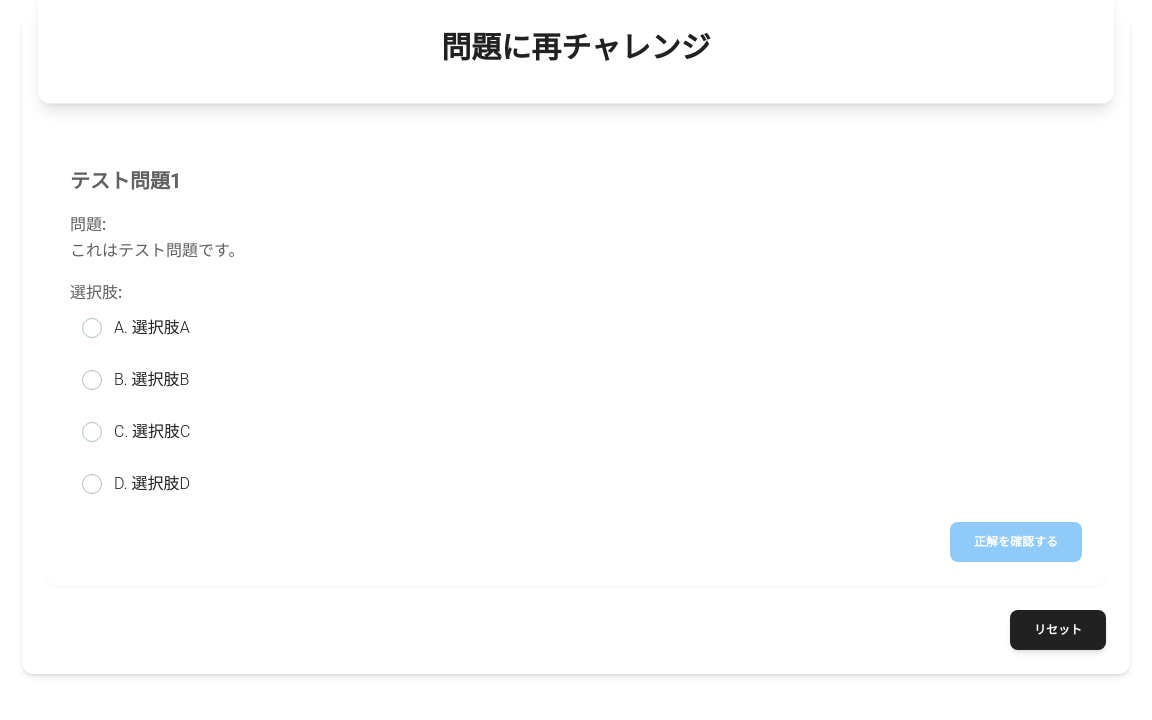
SelectedAnswers › 選択肢を選んで正解を確認できる
This screenshot has width=1152, height=720.
 選択肢Aを選択
Click the radio button labelled "A. 選択肢A": (92, 328) [82, 318, 102, 338]
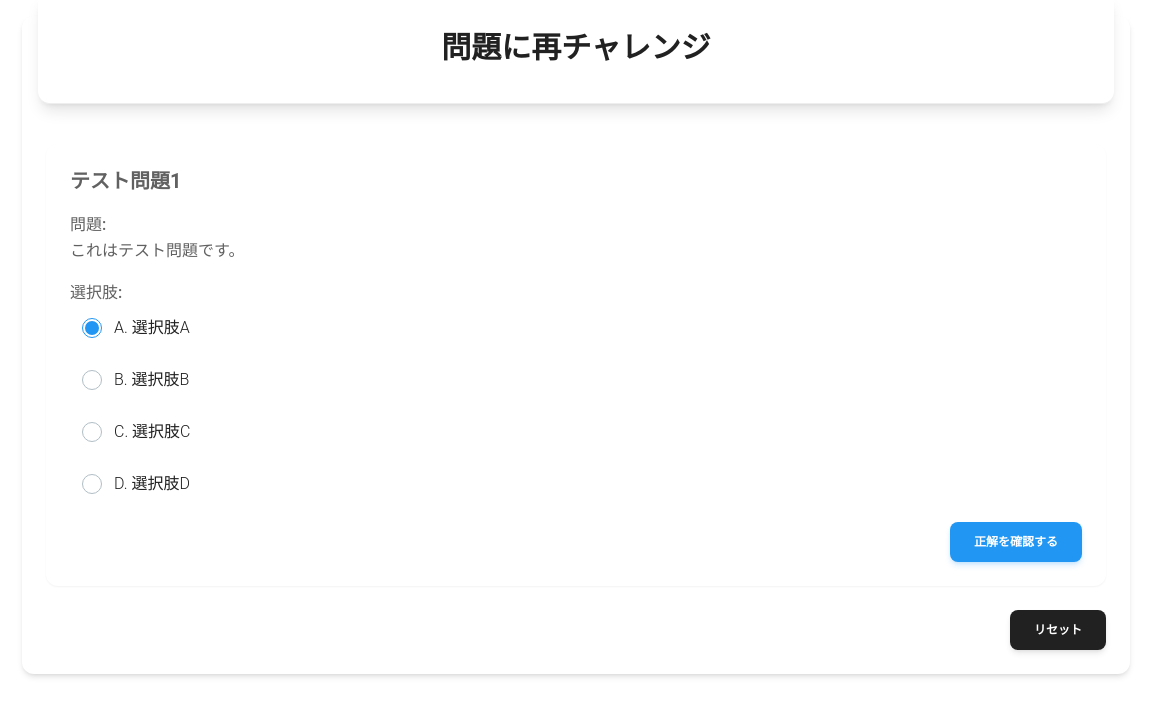
正解確認ボタンをクリック
Click the button "正解を確認する": (1016, 542) [950, 522, 1082, 562]
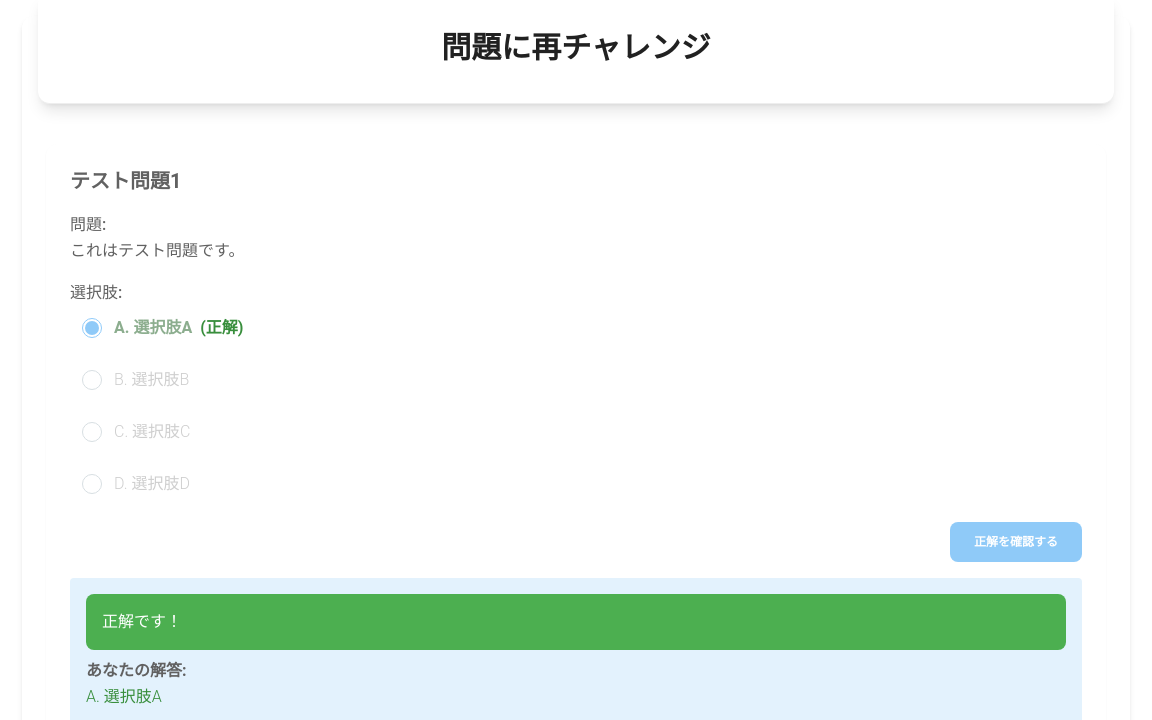
expect the text "正解です！" is shown: met, box [102, 610, 182, 634]
